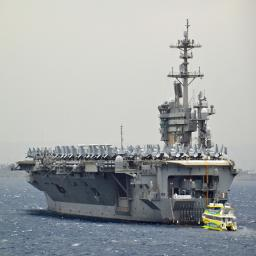Portanaves: (8, 15, 241, 233)
